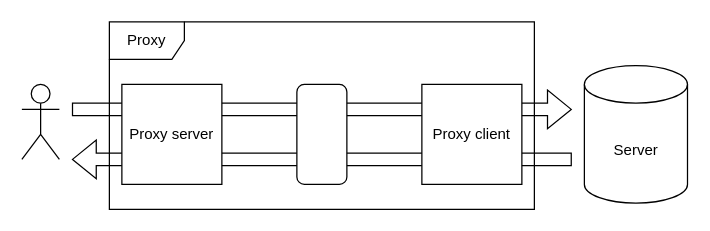
Some shapes in this 710 by 231 pixel diagram are drawn without their labels. The shapes that lost their labels are listed below. From the top down, each one's centre as x and y in pixels, then its label:
[40,121]: Client
[321,133]: Bridge
